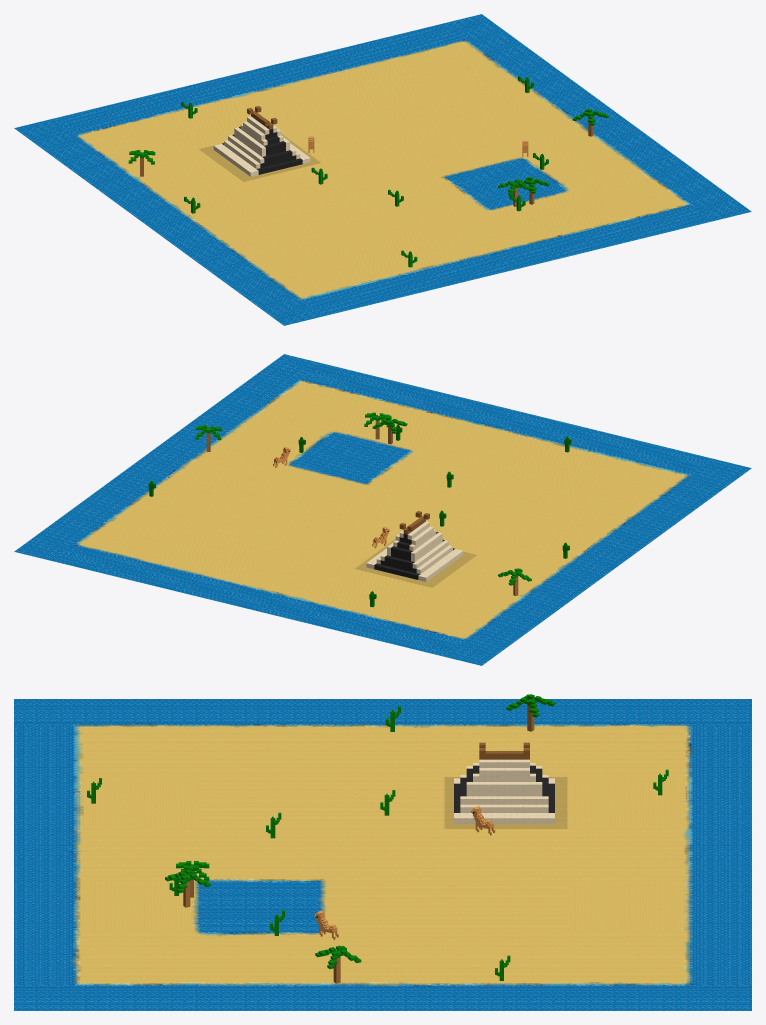
The model's file is Map4.fbx.
3 renders of one model, top to bottom at view 1: azimuth 30°, elevation 25°; view 2: azimuth 150°, elevation 25°; view 3: azimuth 270°, elevation 25°, orthographic. The views are drawn at different scales.
Visible parts, largest first — view 1: pPlane1, Tent; view 2: pPlane1, Tent; view 3: pPlane1, Tent, Pale2, Pale1, Pale3.
Part boxes in pixels (x1,y1,x2,y2): pPlane1: (14,14,751,325); Tent: (213,106,310,176); pPlane1: (14,354,751,665); Tent: (366,511,463,581); pPlane1: (14,699,751,1010); Tent: (454,742,554,823); Pale2: (315,945,361,983); Pale1: (165,869,210,907); Pale3: (506,694,555,731).
Size of the model in its own units: 60 by 5.14 by 60.
